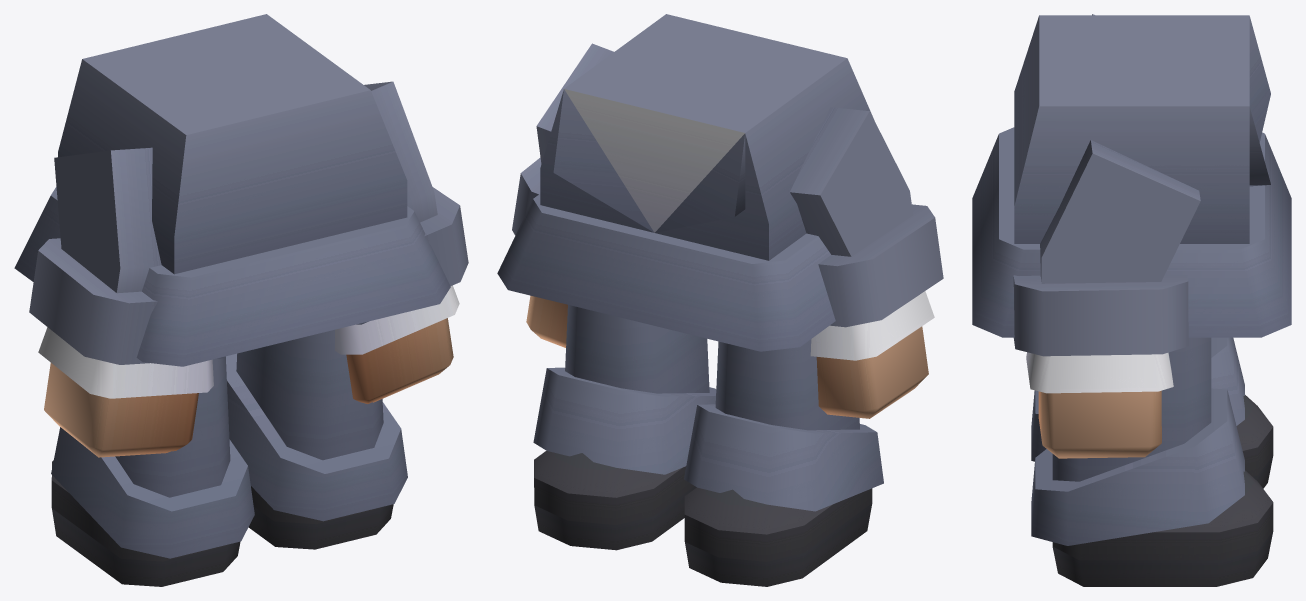
The model's file is mini-female-d.glb.
The picture shows the model from 3 angles, left to right: view 1: azimuth 30°, elevation 25°; view 2: azimuth 150°, elevation 25°; view 3: azimuth 270°, elevation 25°; orthographic projection. The views are drawn at different scales.
Visible parts, largest first — view 1: body-mesh; view 2: body-mesh; view 3: body-mesh.
Part boxes in pixels (x1,y1,x2,y2): body-mesh: (14, 14, 468, 586); body-mesh: (497, 14, 943, 586); body-mesh: (972, 14, 1291, 586).
Size of the model in its own units: 1.23 by 1.4 by 0.8781.
Materials: 1 (1 with a texture image).
